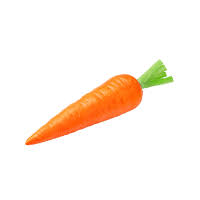carrot: (22, 70, 146, 148)
